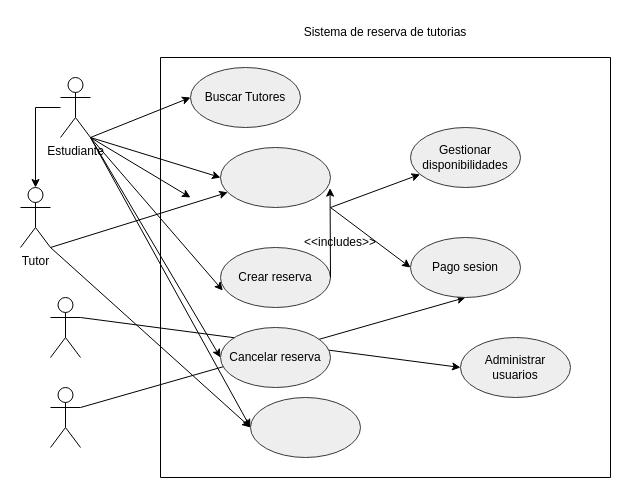
Some shapes in this 628 by 495 pixel diagram are drawn without their labels. The box of each missing label's shape, as (x1, y1, x2, y2) in pixels:
Administrador: (50, 296, 80, 358)
Confirmar asistencia: (250, 396, 360, 458)
Sistema de Pagos: (50, 386, 80, 448)
Ver disponibilidad: (220, 146, 330, 208)
